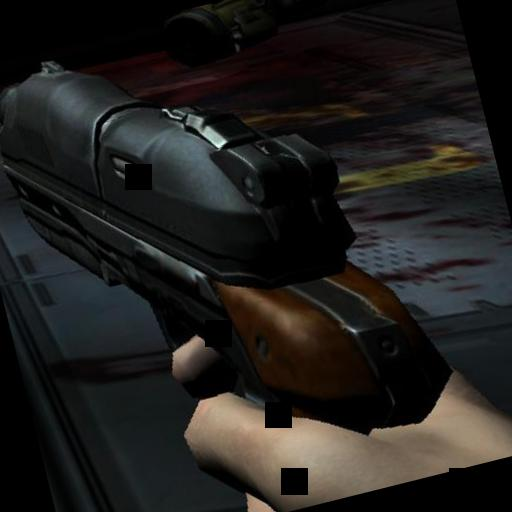Handgun: (0, 0, 477, 512)
